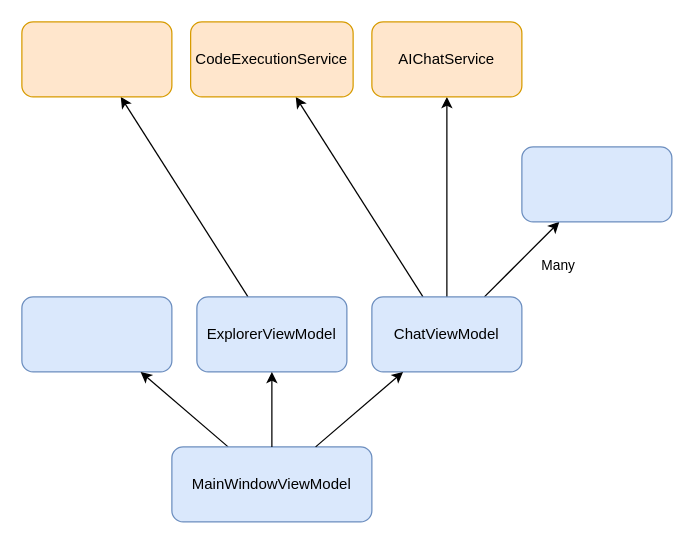
Image size: 694x544. Some labels were removed from this diagram. The centre of each missing label's shape, as x and y in pixels:
"FileService" belongs at point 96,59.
"MessageViewModel" belongs at point 596,184.
"SettingsViewModel" belongs at point 96,334.
